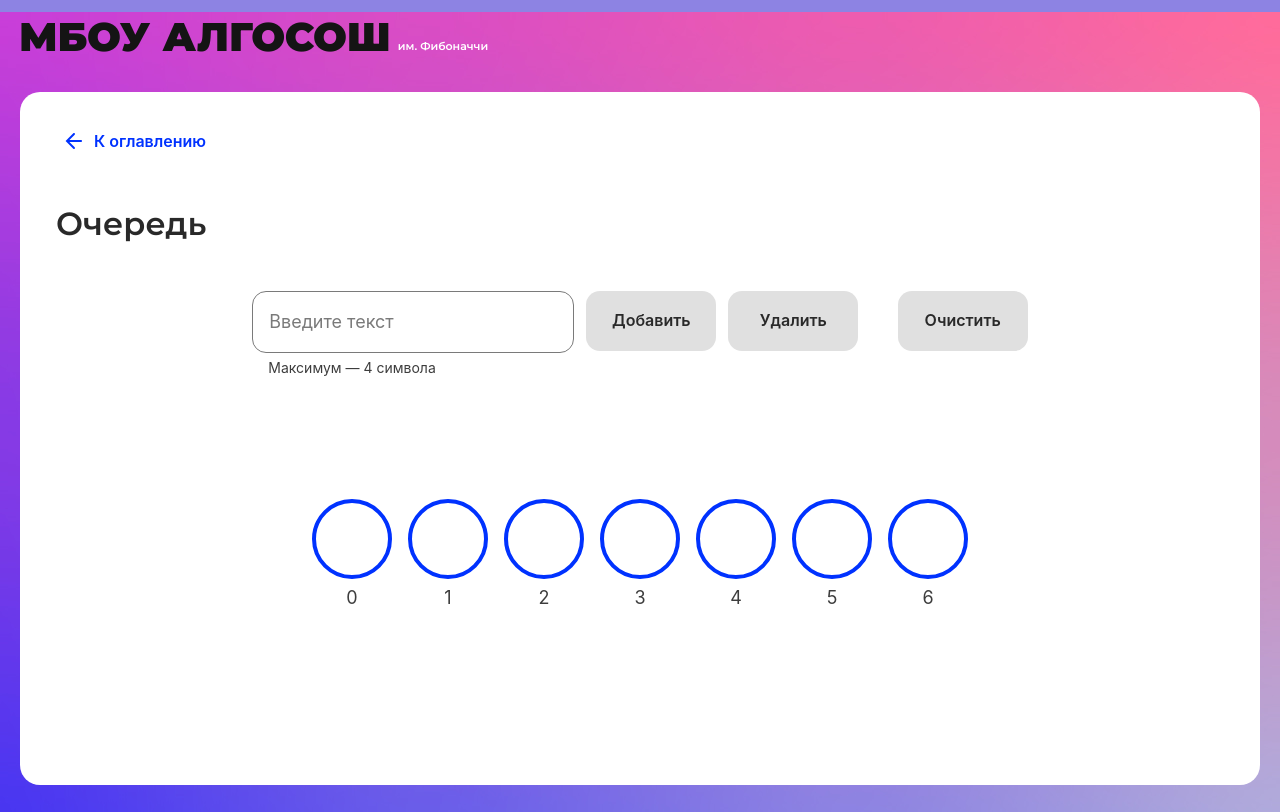
Test: Queue component › buttons disabled
The image size is (1280, 812).
Expected: the button with test id "add" is disabled, x1=586 y1=291 x2=716 y2=351
Expected: the button with test id "delete" is disabled, x1=728 y1=291 x2=858 y2=351
Type "1234" into the field with test id "input" at (413, 322), box x1=252 y1=291 x2=574 y2=353
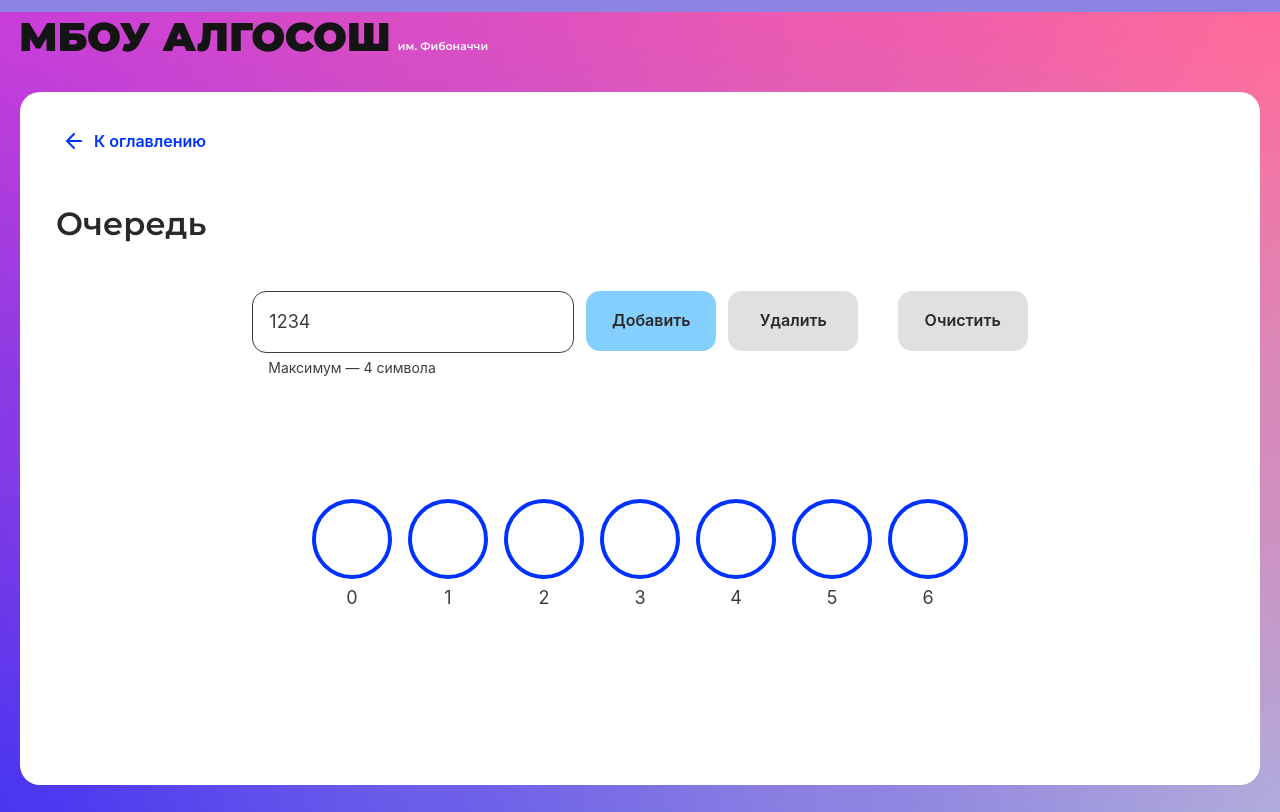
Expected: the element with test id "add" is enabled
Clear the field with test id "input" at (413, 322), box x1=252 y1=291 x2=574 y2=353
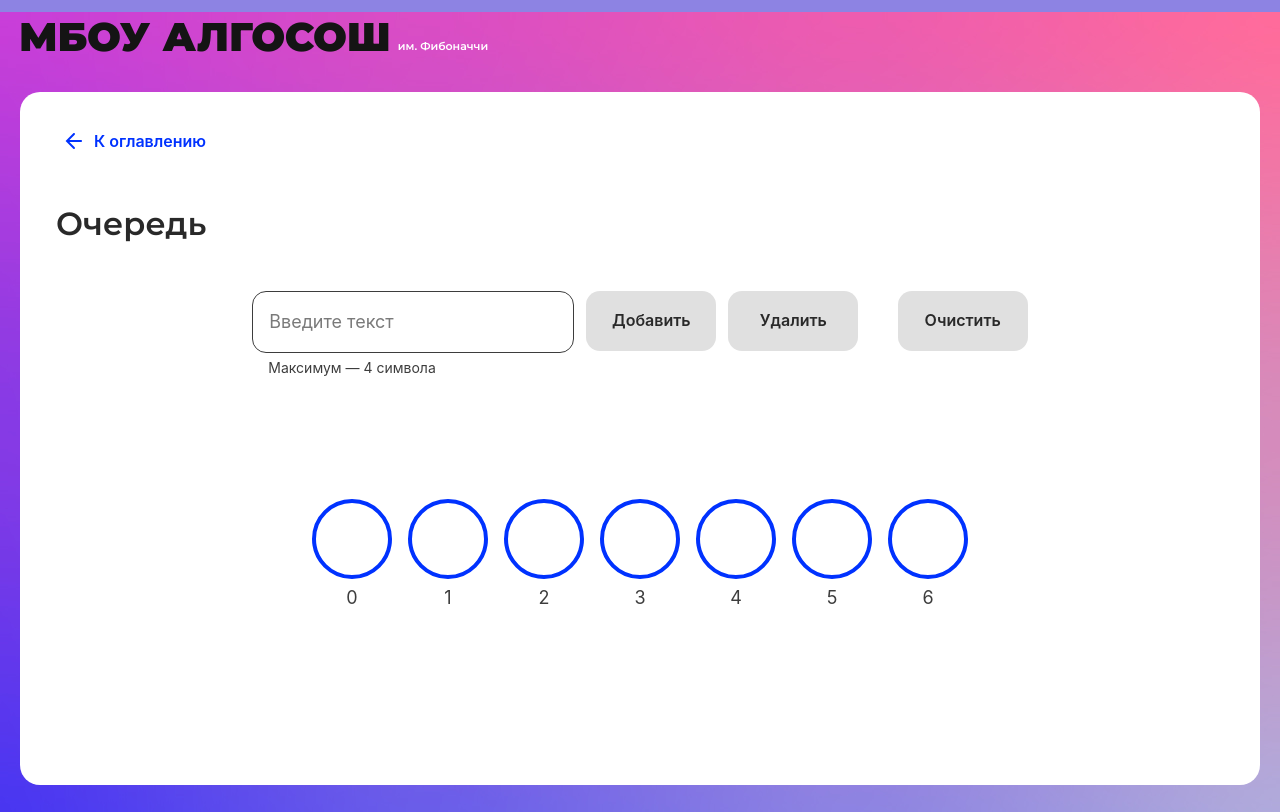
Result: the button with test id "add" is disabled at x1=586 y1=291 x2=716 y2=351
